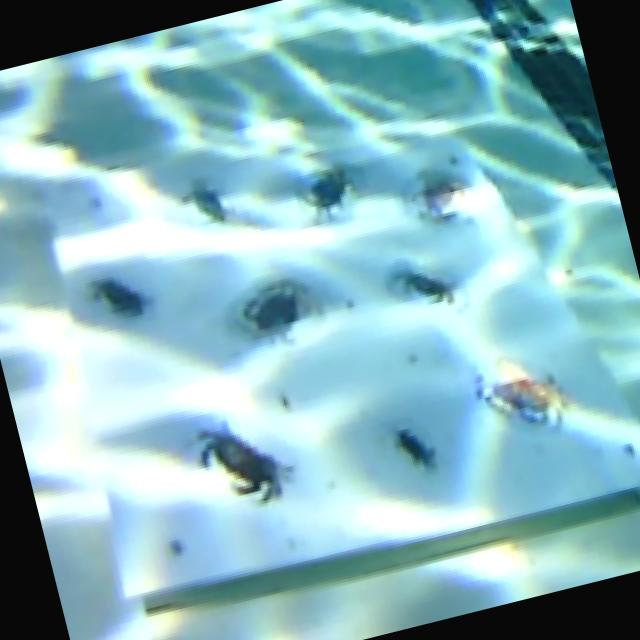green_crab: (301, 164, 349, 217), (183, 180, 225, 218), (395, 430, 433, 461)
jonah_crab: (475, 359, 566, 424), (239, 277, 313, 334), (414, 173, 469, 216)
rock_crab: (197, 428, 292, 498), (88, 277, 149, 315), (396, 271, 452, 300)
